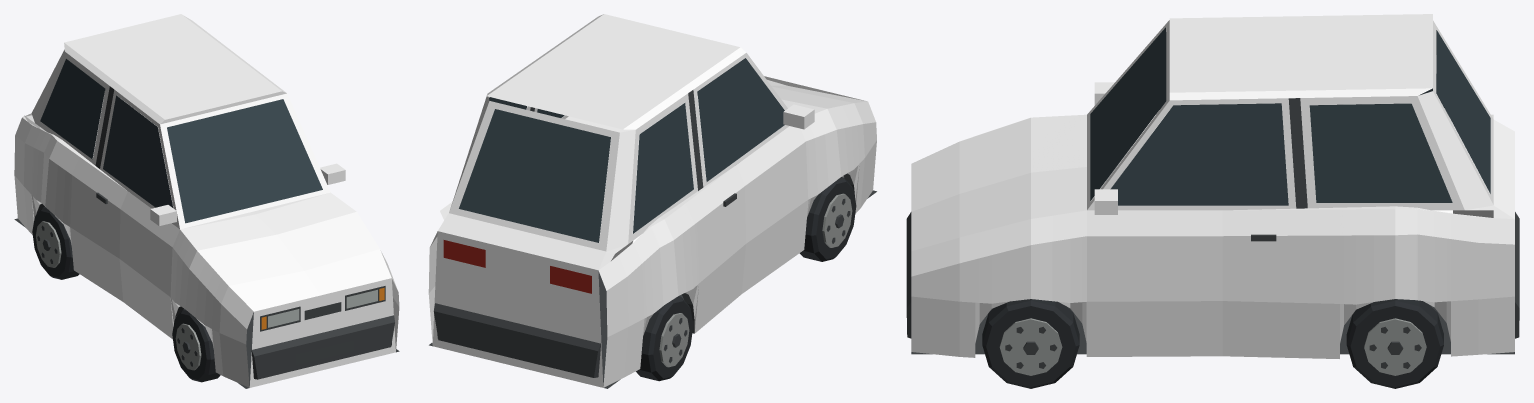
The model's file is ottavo_nebbia.glb.
3 renders of one model, left to right at view 1: azimuth 30°, elevation 25°; view 2: azimuth 150°, elevation 25°; view 3: azimuth 270°, elevation 25°, orthographic. The views are drawn at different scales.
Visible parts, largest first — view 1: ottavo_nebbia; view 2: ottavo_nebbia; view 3: ottavo_nebbia.
Part boxes in pixels (left/top/right/bottom): ottavo_nebbia: left=14, top=14, right=399, bottom=388; ottavo_nebbia: left=428, top=14, right=876, bottom=388; ottavo_nebbia: left=906, top=14, right=1519, bottom=388.
Bounding box in the file's own units: 1.46 × 1.63 × 3.18.
Materials: 8 (1 with a texture image).
